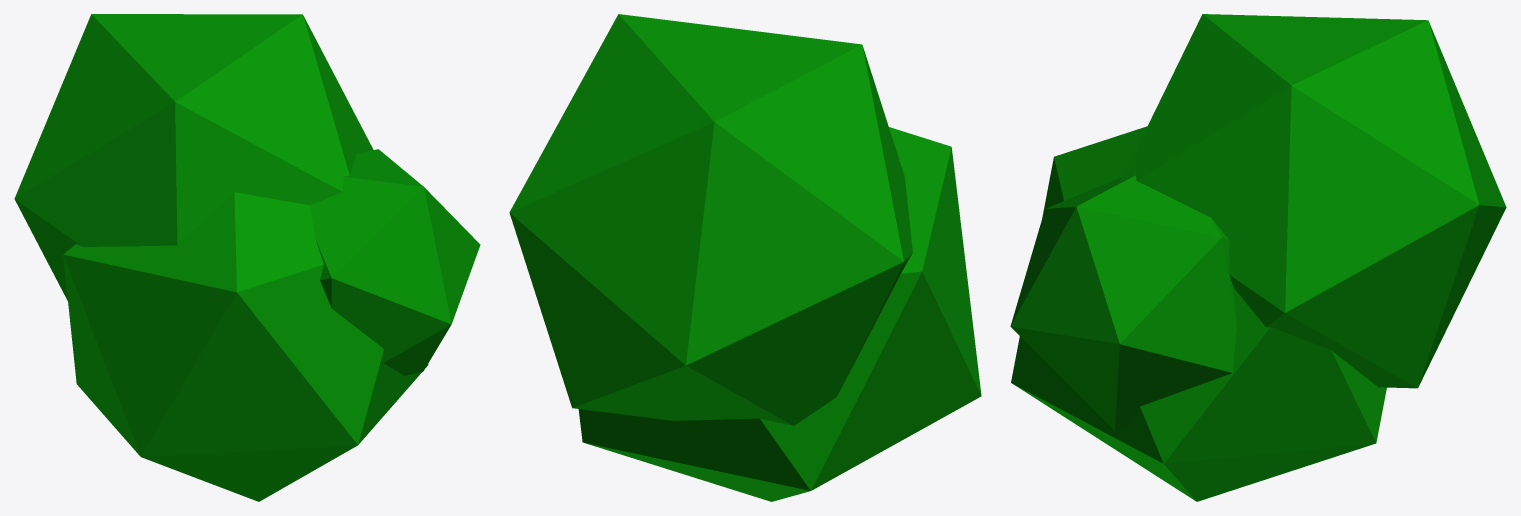
The model's file is Kust_V4.fbx.
The picture shows the model from 3 angles, left to right: view 1: azimuth 30°, elevation 25°; view 2: azimuth 150°, elevation 25°; view 3: azimuth 270°, elevation 25°; orthographic projection. The views are drawn at different scales.
Visible parts, largest first — view 1: Kust_V4; view 2: Kust_V4; view 3: Kust_V4.
Boxes of the visible parts, bbox=[...] form: Kust_V4: bbox=[14, 14, 480, 501]; Kust_V4: bbox=[509, 14, 981, 501]; Kust_V4: bbox=[1010, 14, 1506, 501].
Size of the model in its own units: 2.08 by 2.36 by 2.29.
